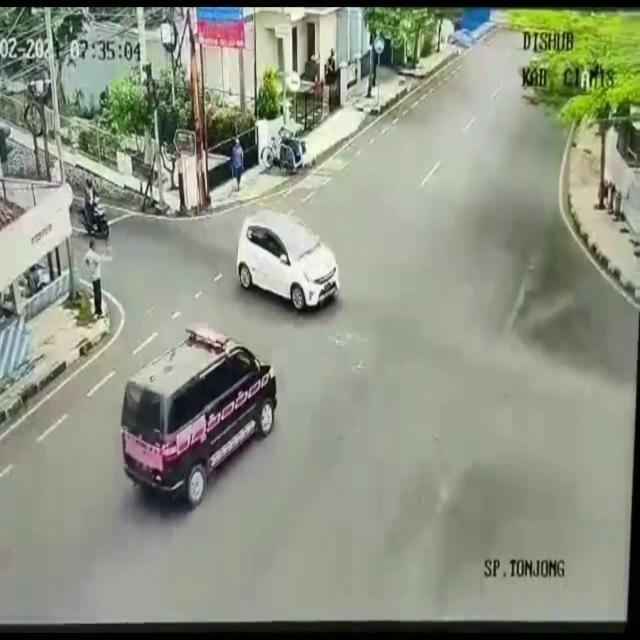normal: (109, 306, 320, 563), (193, 187, 345, 346)
